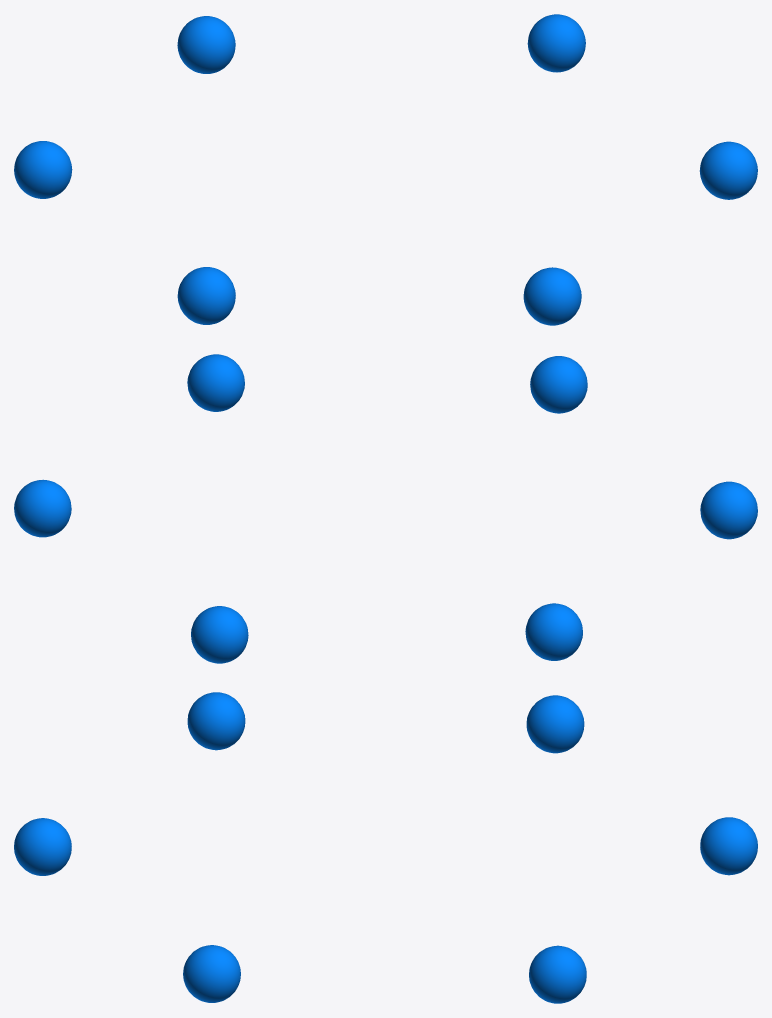
3 views of the same model, one above another, from view 1: azimuth 30°, elevation 25°; view 2: azimuth 150°, elevation 25°; view 3: azimuth 270°, elevation 25° (orthographic).
Parts seen in each view (by area): view 1: Sphere047; view 2: Sphere047; view 3: Sphere047.
Part boxes in pixels (<box>): Sphere047: <box>14,14,757,325</box>; Sphere047: <box>14,354,757,663</box>; Sphere047: <box>14,692,757,1003</box>.
Size of the model in its own units: 93.12 by 8.22 by 105.
